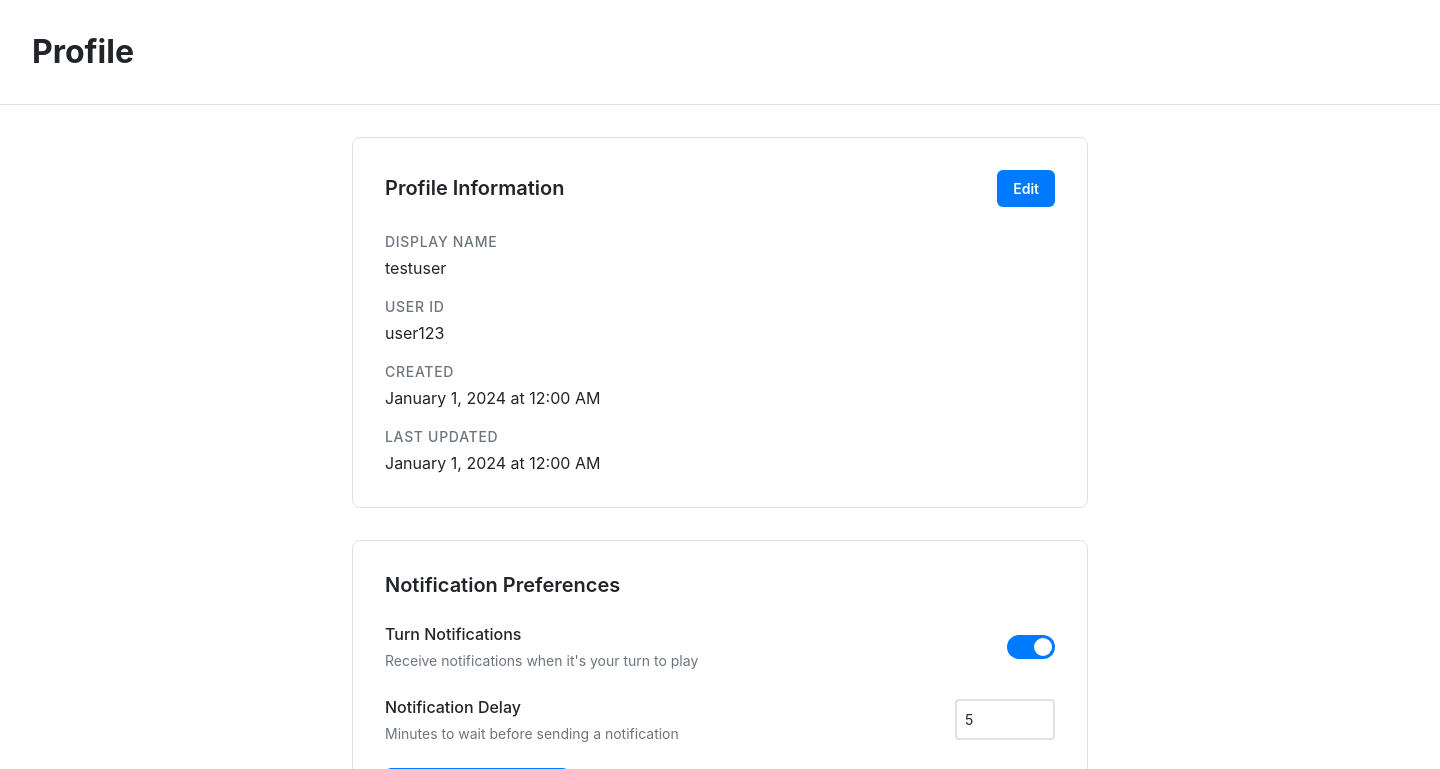
it: ProfileView › Profile Update Flow › should show ProfileForm when edit button is clicked
Click the button "Edit" at (1026, 188), box [997, 170, 1055, 207]
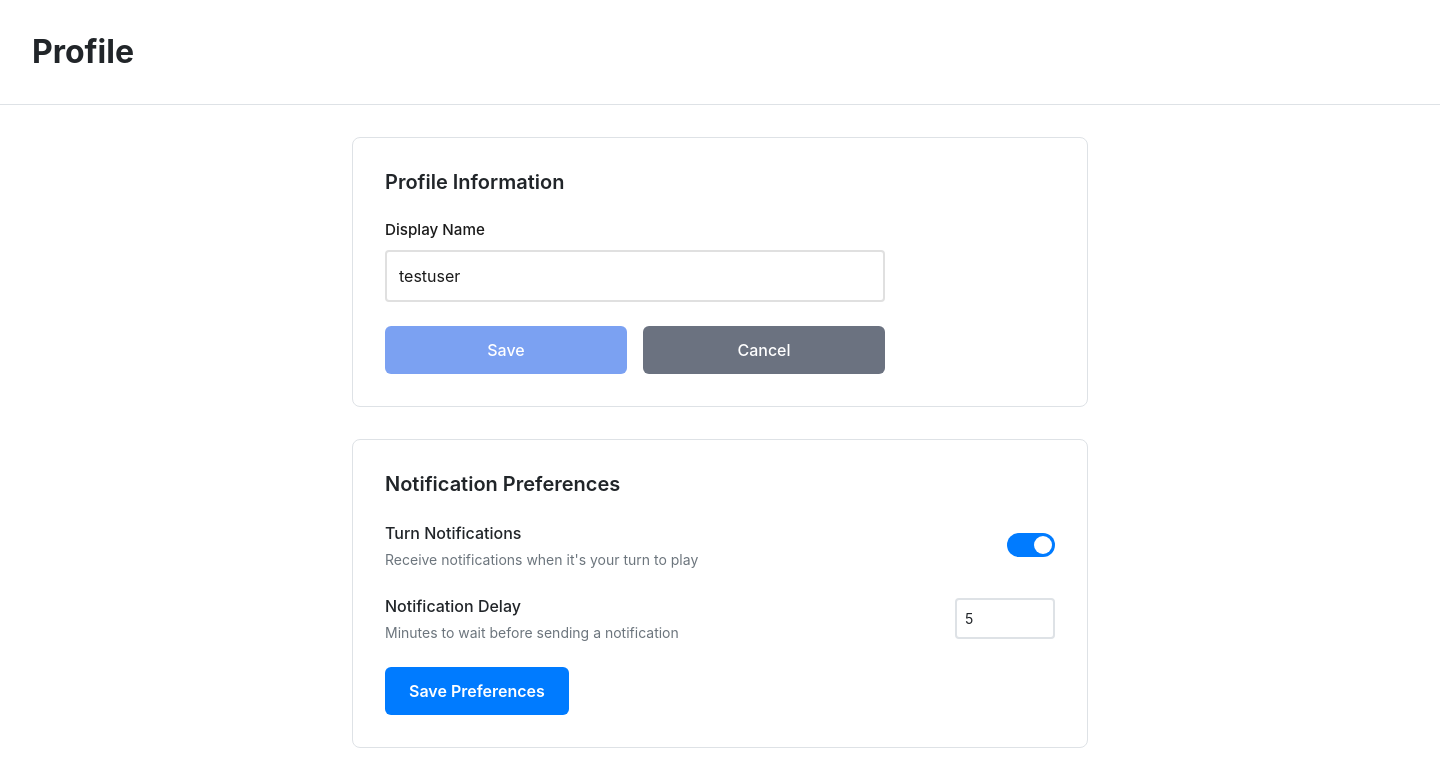
Expected: the field labelled "Display Name" is shown, [385, 250, 885, 302]
Expected: the button "Save" is shown, [385, 326, 627, 374]
Expected: the button "Cancel" is shown, [643, 326, 885, 374]
